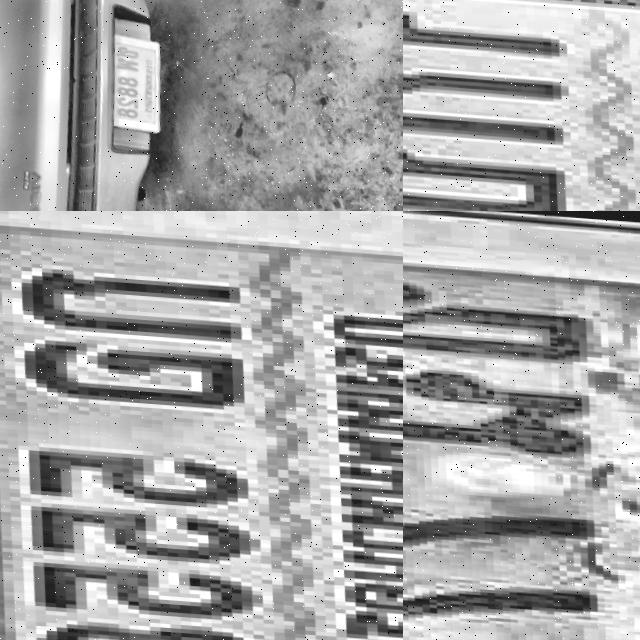license-plate: (0, 211, 403, 640), (403, 211, 640, 640), (403, 0, 640, 211), (94, 30, 165, 133)
